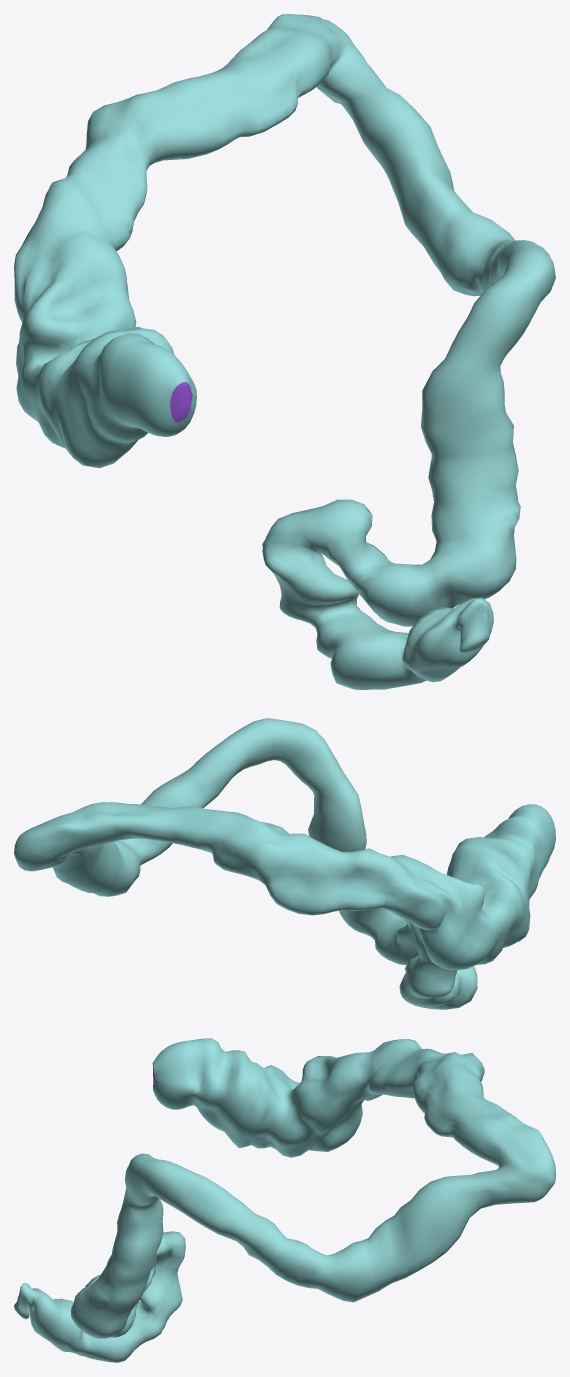
The model's file is Colon.fbx.
3 views of the same model, one above another, from view 1: azimuth 30°, elevation 25°; view 2: azimuth 150°, elevation 25°; view 3: azimuth 270°, elevation 25° (orthographic). The views are drawn at different scales.
Visible parts, largest first — view 1: Colon; view 2: Colon; view 3: Colon.
Boxes of the visible parts, x1,y1,x2,y2 form: Colon: (14,14,555,689); Colon: (14,718,555,1009); Colon: (14,1038,555,1362).
Bounding box in the file's own units: 218 × 166 × 269.
